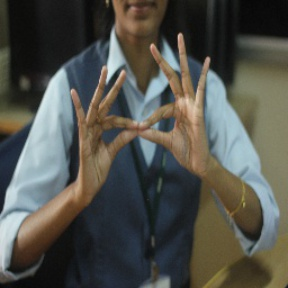B: (89, 98, 191, 164)
